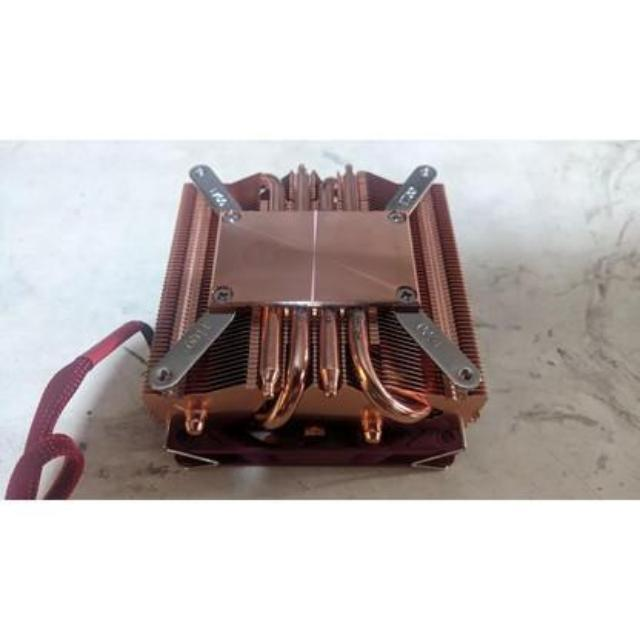CPU_Fan: (146, 159, 489, 481)
